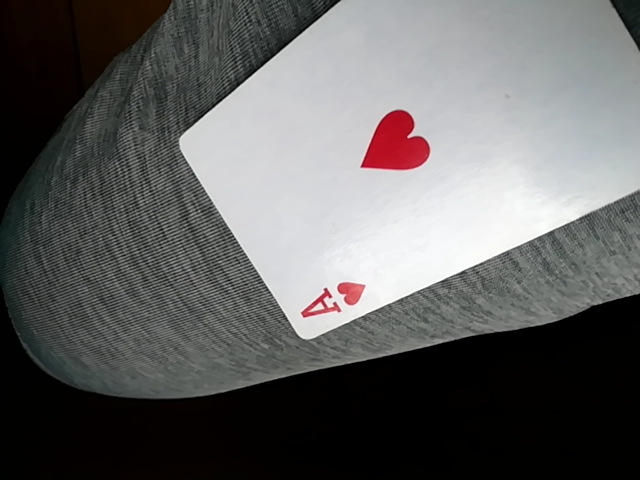hx a: (176, 0, 637, 339)
